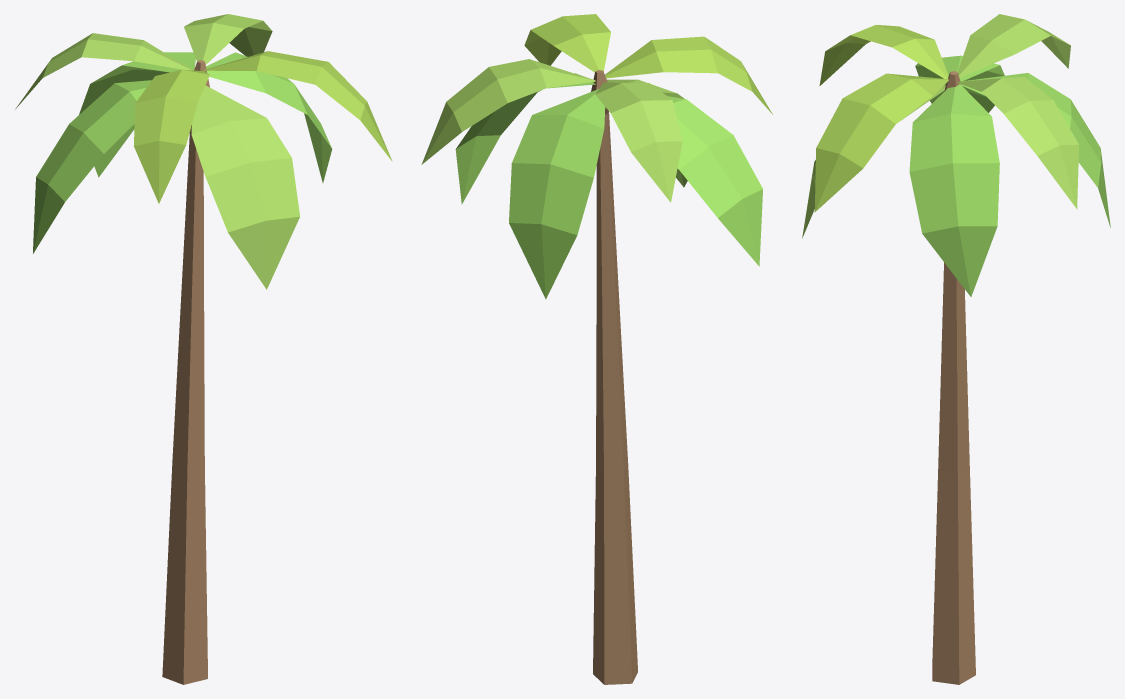
Rendered from Palm_Tree_m_BT_01.fbx.
The picture shows the model from 3 angles, left to right: view 1: azimuth 30°, elevation 25°; view 2: azimuth 150°, elevation 25°; view 3: azimuth 270°, elevation 25°; orthographic projection.
Parts seen in each view (by area): view 1: Palm_Tree_m_BT_01; view 2: Palm_Tree_m_BT_01; view 3: Palm_Tree_m_BT_01.
Boxes of the visible parts, x1,y1,x2,y2 form: Palm_Tree_m_BT_01: (15, 14, 392, 684); Palm_Tree_m_BT_01: (421, 14, 772, 684); Palm_Tree_m_BT_01: (802, 14, 1110, 684).
Bounding box in the file's own units: 298 × 601 × 269.
